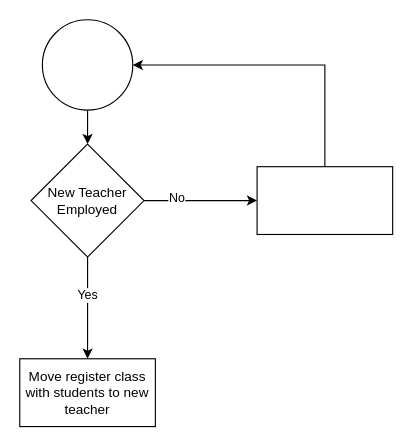
This 412x446 diagram has some shape labels left out. Each missing label, with the centre of its shape:
"Delete Teacher" goes at pixel 87 64.
"Wait for new Teacher to be emplyed" goes at pixel 324 200.
